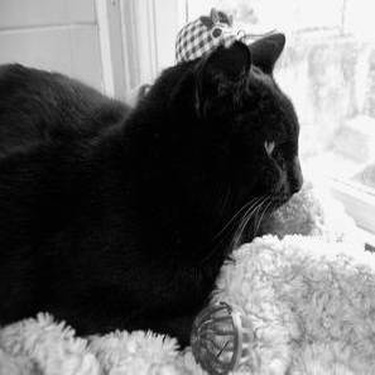cat: (1, 23, 308, 346)
